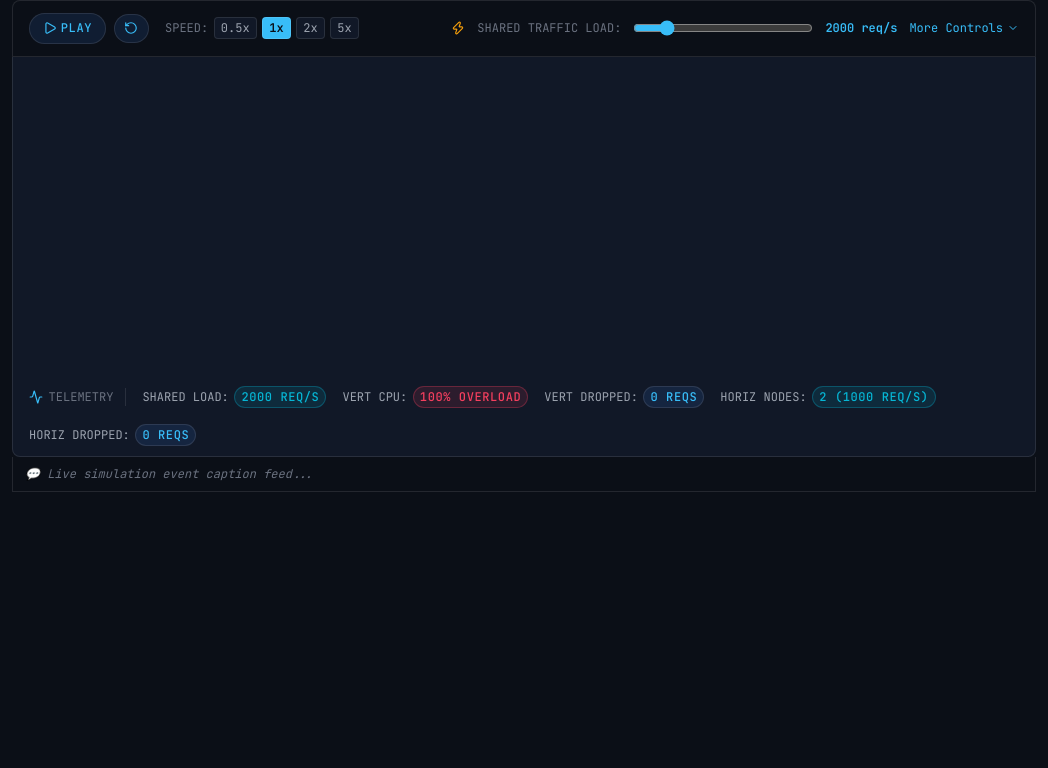
Test: ScalingVisualizer (Flagship §7.2) › allows toggling auto-scaler mode
The width and height of the screenshot is (1048, 768).
Expand controls
Click the button "More Controls": (964, 28) top-left (909, 20), bottom-right (1019, 36)
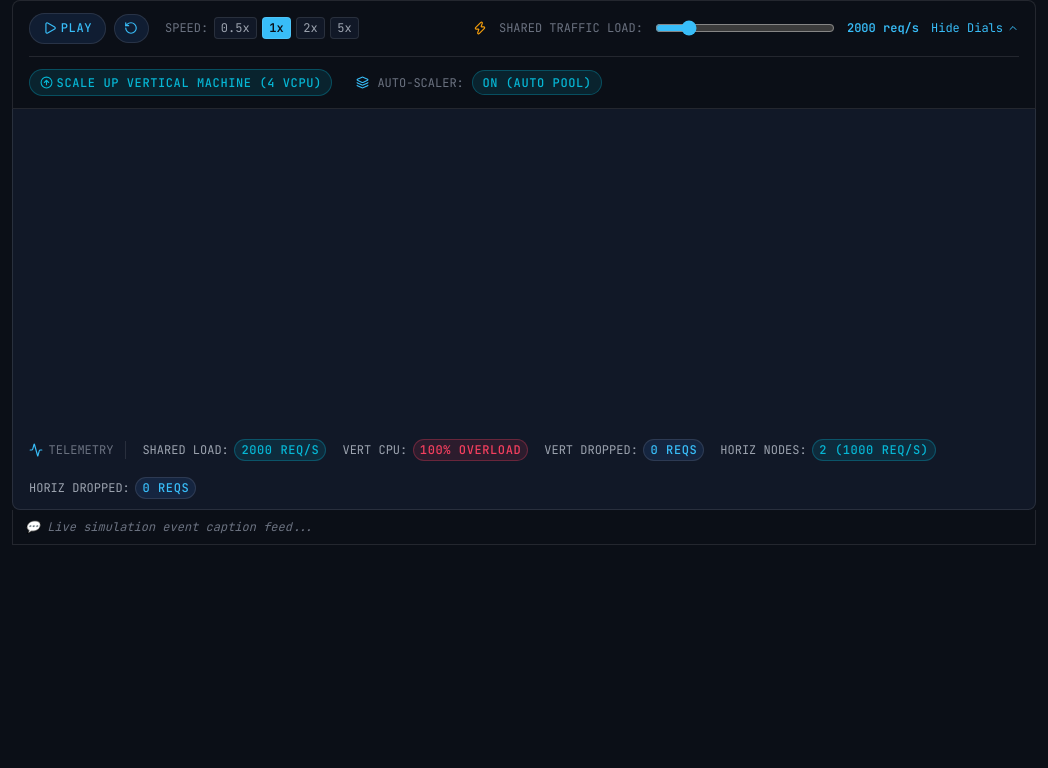
Click the button "ON (Auto Pool)": (537, 83) top-left (472, 70), bottom-right (602, 95)
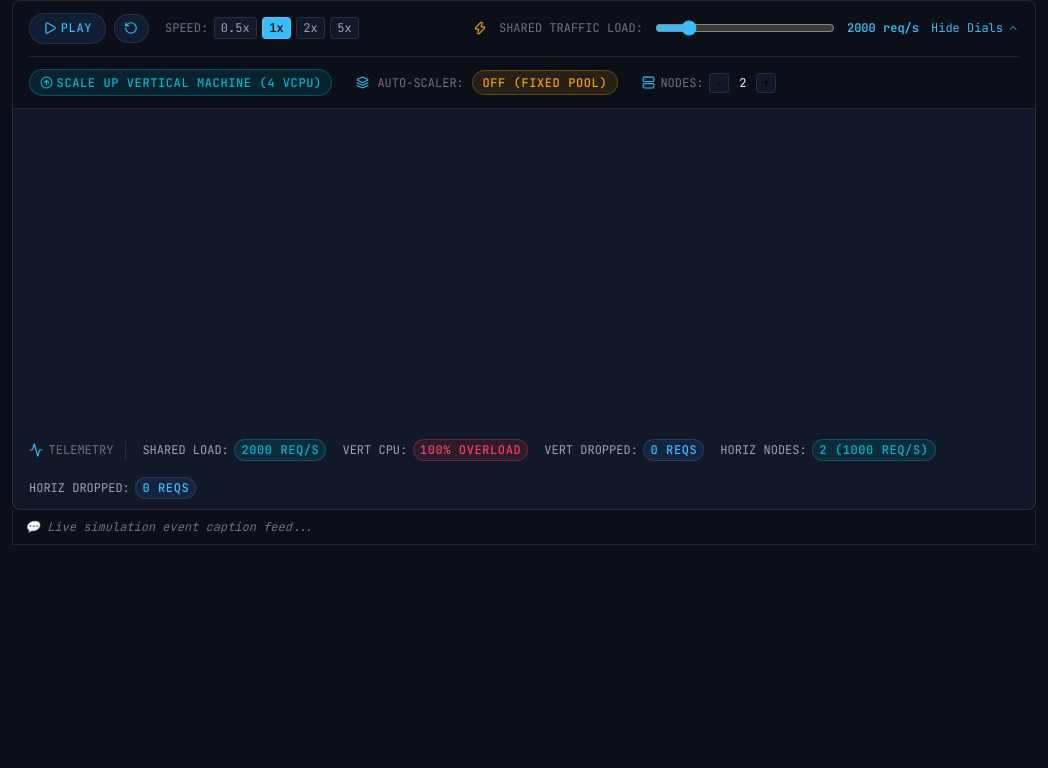
Check: the button "OFF (Fixed Pool)" is shown, box top-left (472, 70), bottom-right (618, 95)
